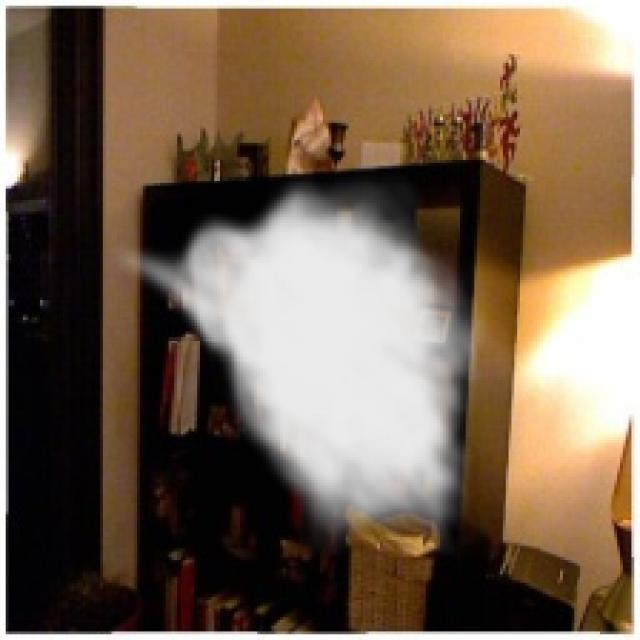Smoke: (109, 172, 488, 557)
